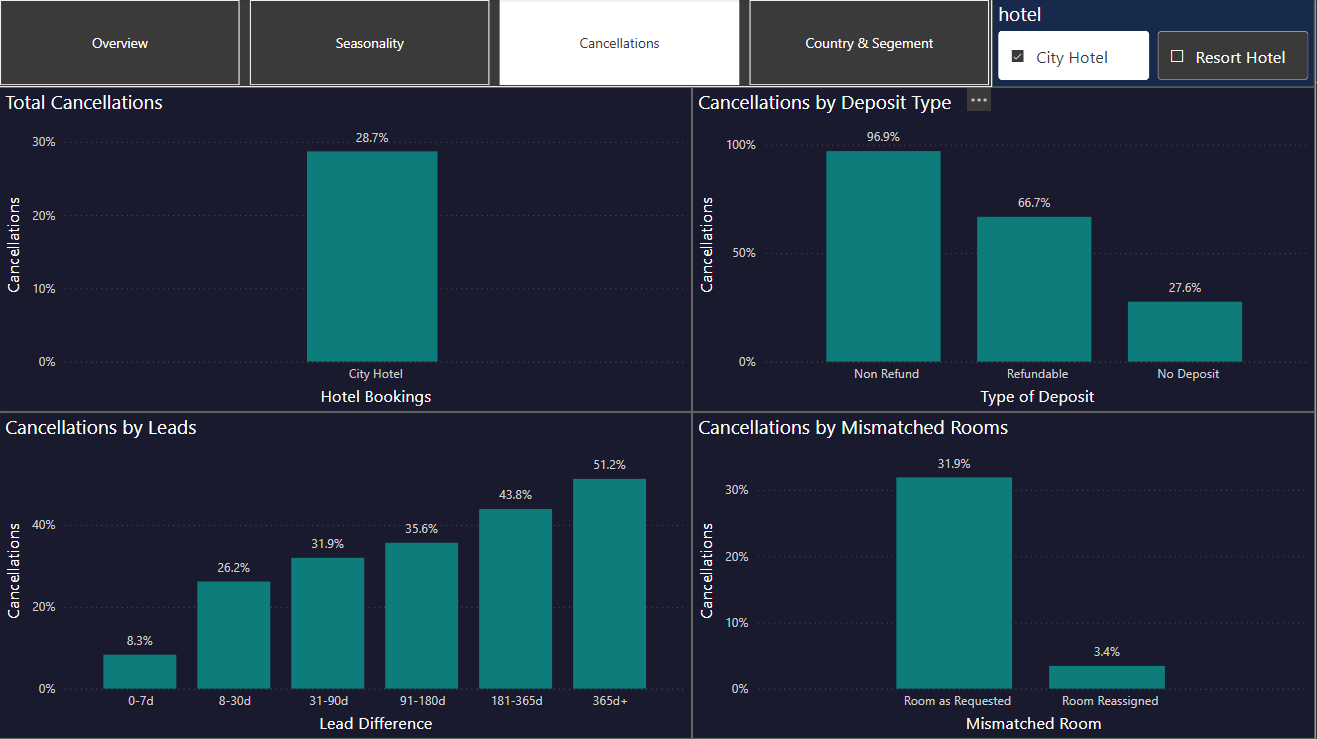

Layout of this report page (visuals, bound fields, positions):
{"tool":"powerbi","page":{"name":"Cancellations","canvas":[1280,720],"ordinal":2},"visuals":[{"type":"clusteredColumnChart","title":"Total Cancellations","fields":{"Category":["Sheet1.hotel"],"Y":["Sheet1.True Cancellation"]},"box":[0,85.6,674,316.1],"z":0},{"type":"clusteredColumnChart","title":"Cancellations by Deposit Type","fields":{"Category":["Sheet1.deposit_type"],"Y":["Sheet1.True Cancellation"]},"box":[674,85.6,606,316.1],"z":1000},{"type":"clusteredColumnChart","title":" Cancellations by Leads","fields":{"Category":["Sheet1.lead_bucket"],"Y":["Sheet1.True Cancellation"]},"box":[0,401.7,674,318.1],"z":2000},{"type":"clusteredColumnChart","title":"Cancellations by Mismatched Rooms","fields":{"Category":["Sheet1.room_mismatch"],"Y":["Sheet1.True Cancellation"]},"box":[674,401.7,606,318.1],"z":3000},{"type":"advancedSlicerVisual","fields":{"Values":["Sheet1.hotel"]},"box":[965.8,0,314.2,85.6],"z":4000},{"type":"pageNavigator","box":[0,0,965.8,85.6],"z":5000}]}

Visuals, with their boxes on the page's 1280x720 design canvas (x1, y1, x2, y2). These are canvas units, not pixel positions in the 1317x739 screenshot, which may show the page scaled, cropped or inside an application window:
"Total Cancellations" clusteredColumnChart: [x1=0, y1=86, x2=674, y2=402]
"Cancellations by Deposit Type" clusteredColumnChart: [x1=674, y1=86, x2=1280, y2=402]
" Cancellations by Leads" clusteredColumnChart: [x1=0, y1=402, x2=674, y2=720]
"Cancellations by Mismatched Rooms" clusteredColumnChart: [x1=674, y1=402, x2=1280, y2=720]
advancedSlicerVisual - Sheet1.hotel: [x1=966, y1=0, x2=1280, y2=86]
pageNavigator: [x1=0, y1=0, x2=966, y2=86]
